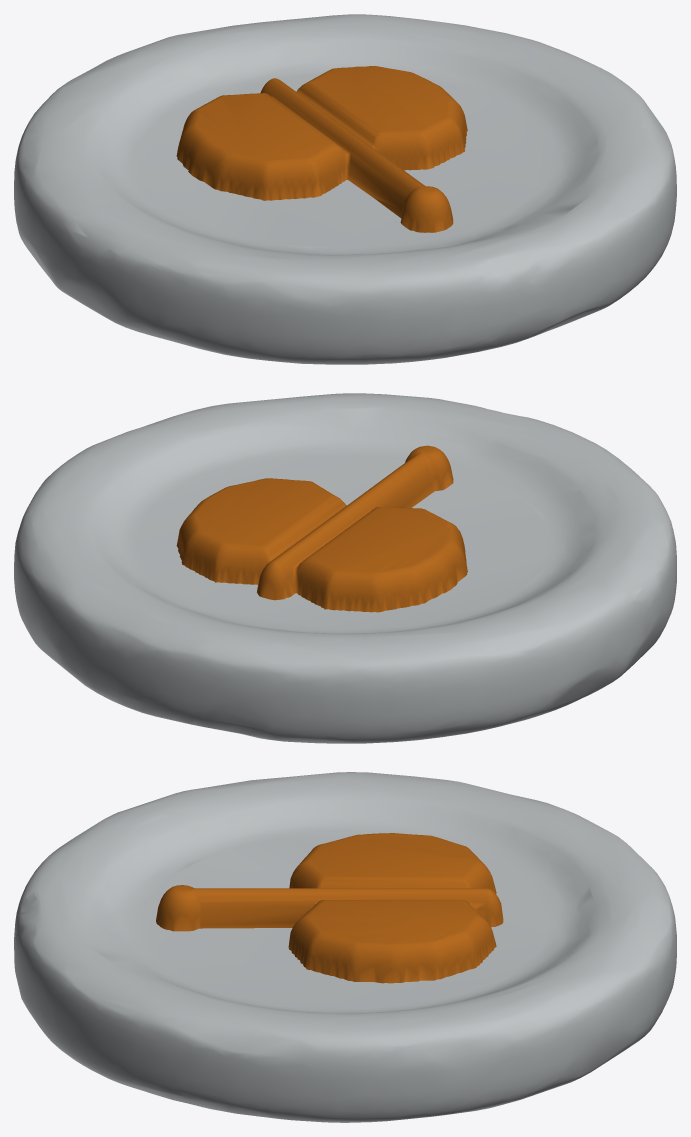
Rendered from token-barbarian-blue-draco.glb.
The picture shows the model from 3 angles, top to bottom: view 1: azimuth 30°, elevation 25°; view 2: azimuth 150°, elevation 25°; view 3: azimuth 270°, elevation 25°; orthographic projection.
Parts seen in each view (by area): view 1: token_barbarian_blue; view 2: token_barbarian_blue; view 3: token_barbarian_blue.
Part boxes in pixels (<box>): token_barbarian_blue: <box>14,14,676,364</box>; token_barbarian_blue: <box>14,393,676,743</box>; token_barbarian_blue: <box>14,772,676,1122</box>.
Bounding box in the file's own units: 0.414 × 0.072 × 0.414.
